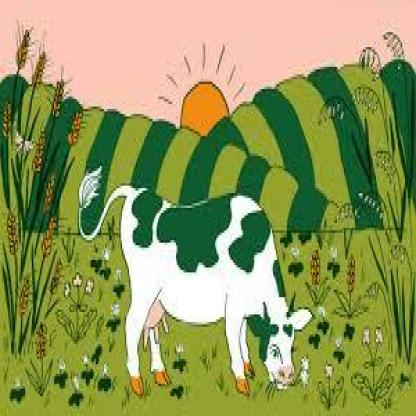cow: (79, 163, 313, 398)
